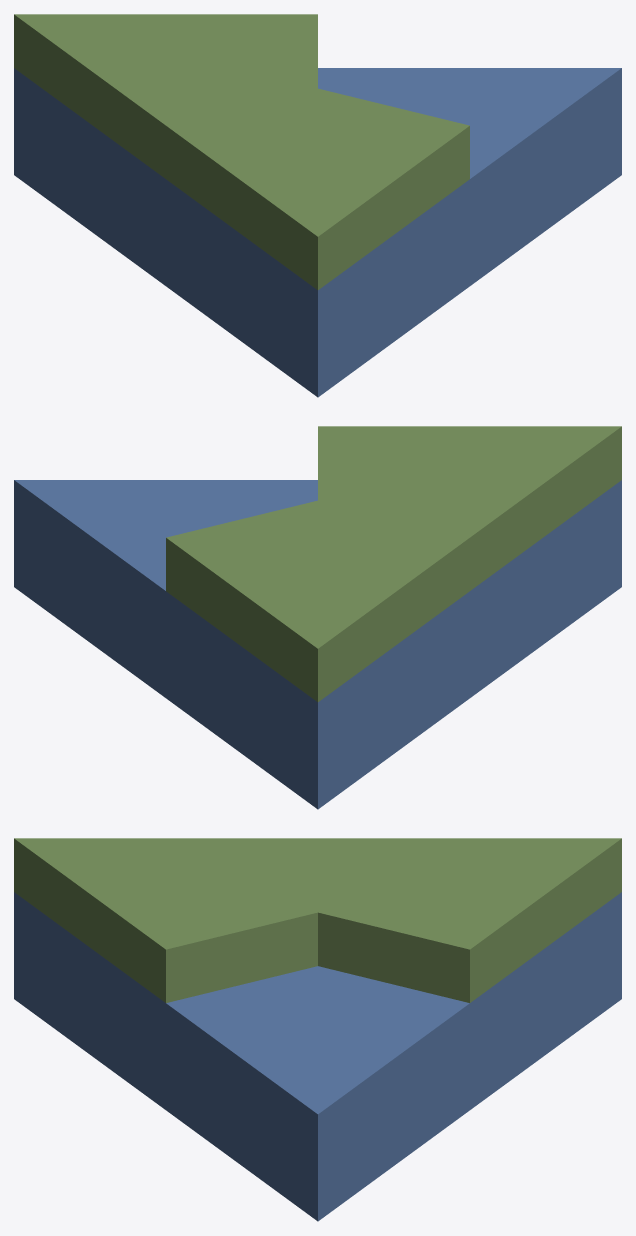
The model's file is tri_13.glb.
3 renders of one model, top to bottom at view 1: azimuth 30°, elevation 25°; view 2: azimuth 150°, elevation 25°; view 3: azimuth 270°, elevation 25°, orthographic.
Parts seen in each view (by area): view 1: tri_13; view 2: tri_13; view 3: tri_13.
Part boxes in pixels (left/top/right/bottom): tri_13: left=14, top=14, right=621, bottom=397; tri_13: left=14, top=426, right=621, bottom=809; tri_13: left=14, top=838, right=621, bottom=1221.
Bounding box in the file's own units: 0.7423 × 0.25 × 0.8571.
